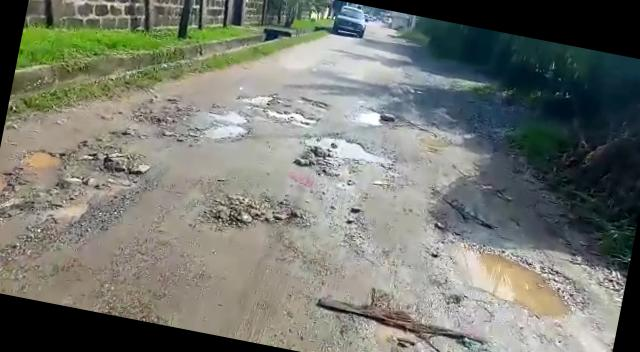pothole: (432, 237, 584, 326), (296, 127, 401, 170), (251, 101, 325, 130), (22, 142, 66, 176), (198, 117, 250, 145), (204, 100, 250, 124), (354, 105, 398, 130), (239, 91, 277, 110), (296, 94, 336, 110), (0, 173, 12, 208)
